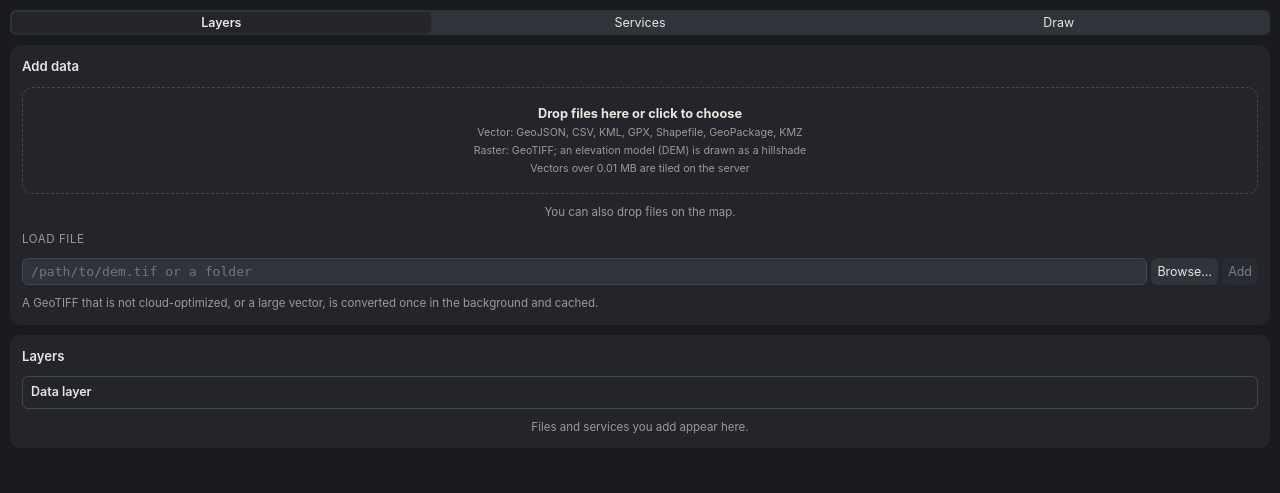
Test: Add data: a file on the server › shows the server refusing a path
Type "/etc/x.tif" into the field named "File path on the server". click: (585, 272)
box: [22,258,1147,285]
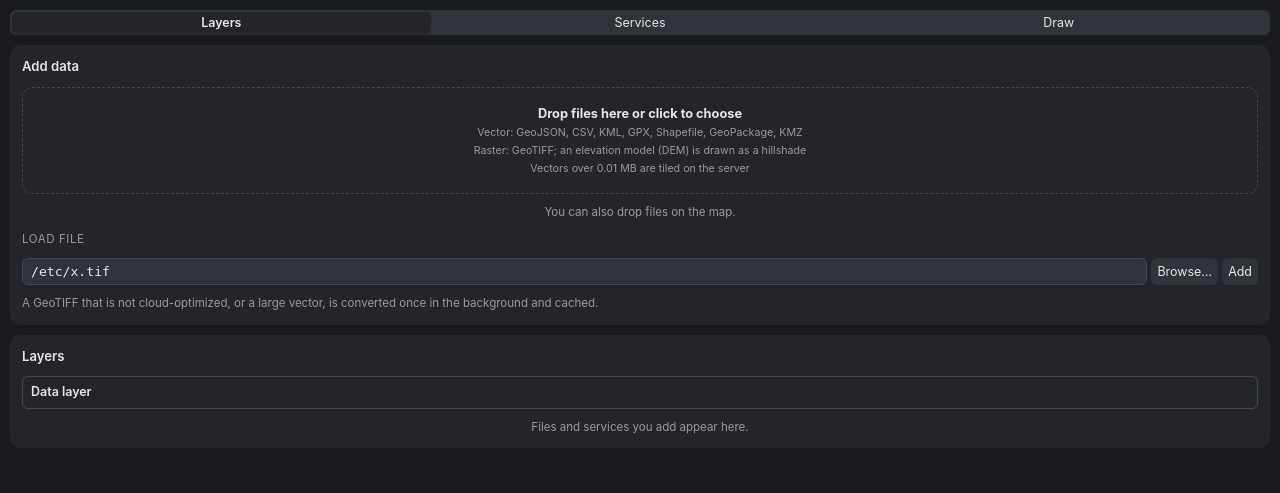
Click the button "Add". click: (1240, 272)
box: [1222,258,1258,285]
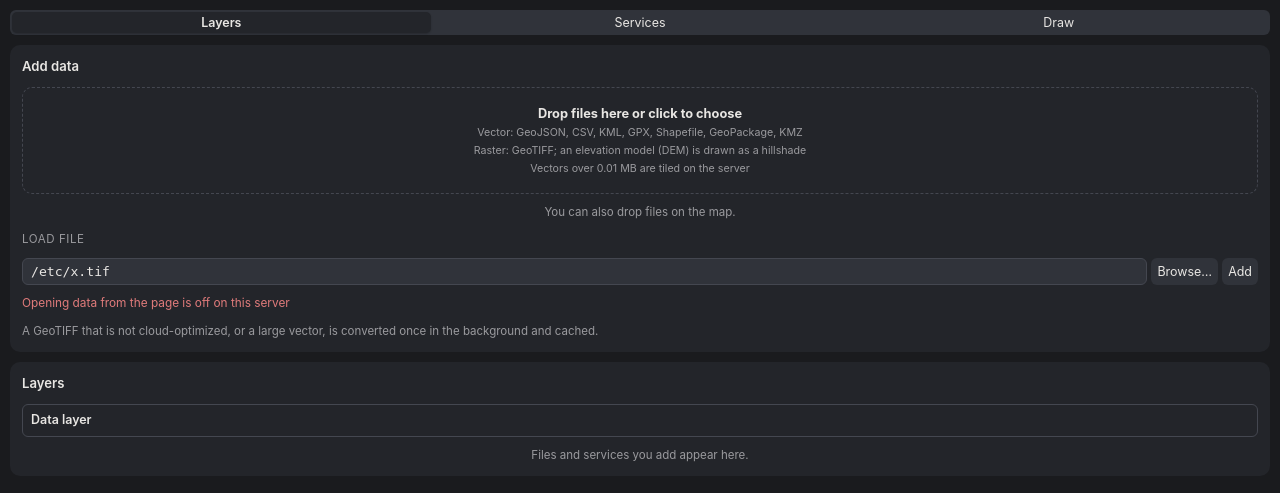
expect the text "Opening data from the page is off on this server" is shown: met, box [22,296,290,310]
